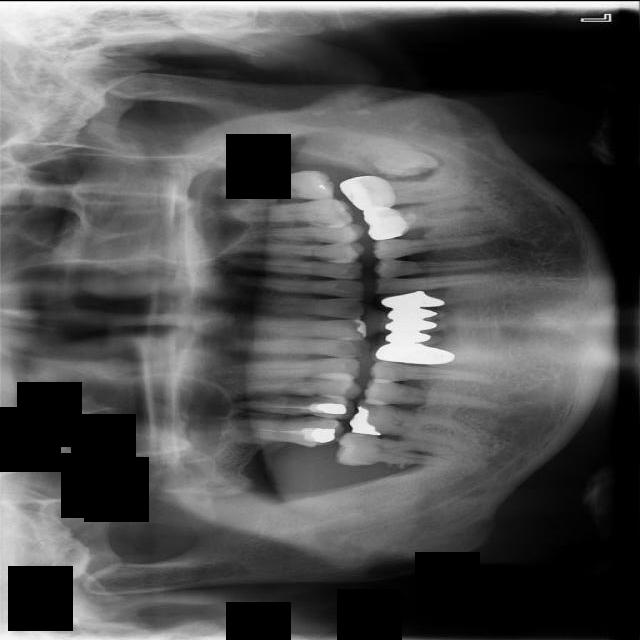52: (371, 290, 455, 364), (346, 392, 409, 447), (337, 170, 409, 217), (361, 196, 421, 243), (284, 411, 347, 450), (283, 170, 336, 199), (298, 393, 357, 419), (313, 318, 368, 339)
73: (204, 415, 297, 447), (228, 395, 309, 415), (596, 31, 610, 37)
BioHorizons Implant: (218, 167, 336, 200)
Biomet 3i Implant: (348, 133, 442, 187)
Blue Sky Bio Implant: (338, 174, 460, 213)
Implant: (334, 430, 456, 473)
